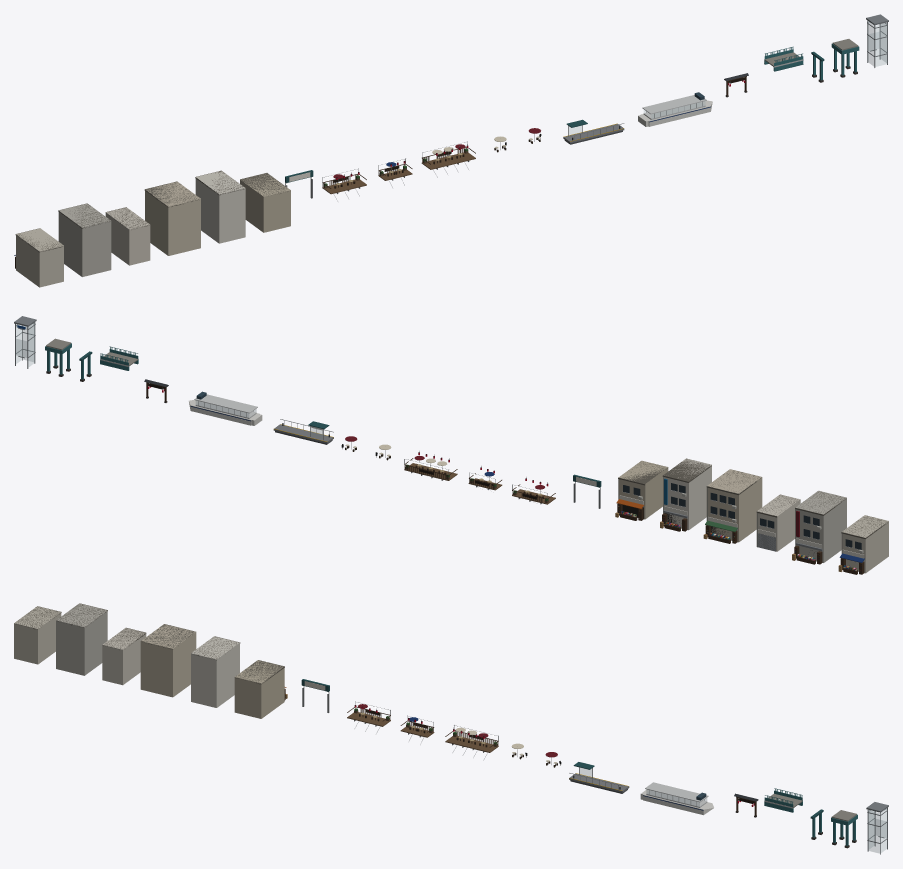
File: tsumugikit.glb
3 views of the same model, one above another, from view 1: azimuth 30°, elevation 25°; view 2: azimuth 150°, elevation 25°; view 3: azimuth 330°, elevation 25° (orthographic).
Parts seen in each view (by area): view 1: tsumugikit_tonya_d_body, tsumugikit_tonya_b_body, tsumugikit_tonya_e_body, tsumugikit_tonya_a_body, tsumugikit_tonya_f_body, tsumugikit_tonya_c_body, tsumugikit_boat_body, tsumugikit_lift_body, tsumugikit_yuka_l_body, tsumugikit_pontoon_body, tsumugikit_yuka_body, tsumugikit_span_body (+1 smaller); view 2: tsumugikit_tonya_d_body, tsumugikit_tonya_b_body, tsumugikit_tonya_e_body, tsumugikit_tonya_a_body, tsumugikit_tonya_f_body, tsumugikit_tonya_c_body, tsumugikit_boat_body, tsumugikit_lift_body, tsumugikit_pontoon_body, tsumugikit_yuka_l_body, tsumugikit_span_body, tsumugikit_cap_body (+1 smaller); view 3: tsumugikit_tonya_d_body, tsumugikit_tonya_b_body, tsumugikit_tonya_e_body, tsumugikit_tonya_f_body, tsumugikit_tonya_a_body, tsumugikit_tonya_c_body, tsumugikit_boat_body, tsumugikit_lift_body, tsumugikit_yuka_l_body, tsumugikit_pontoon_body, tsumugikit_yuka_body, tsumugikit_span_body (+1 smaller).
Part boxes in pixels (left/top/right/bottom): tsumugikit_tonya_d_body: left=144, top=181, right=200, bottom=255; tsumugikit_tonya_b_body: left=58, top=203, right=111, bottom=276; tsumugikit_tonya_e_body: left=195, top=170, right=245, bottom=243; tsumugikit_tonya_a_body: left=14, top=228, right=63, bottom=287; tsumugikit_tonya_f_body: left=240, top=173, right=290, bottom=232; tsumugikit_tonya_c_body: left=105, top=207, right=150, bottom=265; tsumugikit_boat_body: left=638, top=92, right=712, bottom=126; tsumugikit_lift_body: left=866, top=14, right=888, bottom=67; tsumugikit_yuka_l_body: left=421, top=141, right=475, bottom=177; tsumugikit_pontoon_body: left=563, top=119, right=624, bottom=144; tsumugikit_yuka_body: left=322, top=168, right=366, bottom=201; tsumugikit_span_body: left=764, top=46, right=803, bottom=71; tsumugikit_tonya_d_body: left=703, top=469, right=762, bottom=543; tsumugikit_tonya_b_body: left=792, top=490, right=846, bottom=564; tsumugikit_tonya_e_body: left=660, top=458, right=711, bottom=531; tsumugikit_tonya_a_body: left=838, top=515, right=888, bottom=574; tsumugikit_tonya_f_body: left=615, top=460, right=668, bottom=520; tsumugikit_tonya_c_body: left=756, top=494, right=800, bottom=551; tsumugikit_boat_body: left=189, top=391, right=262, bottom=425; tsumugikit_lift_body: left=14, top=316, right=36, bottom=368; tsumugikit_pontoon_body: left=273, top=419, right=333, bottom=444; tsumugikit_yuka_l_body: left=404, top=451, right=457, bottom=480; tsumugikit_span_body: left=100, top=346, right=138, bottom=370; tsumugikit_cap_body: left=45, top=338, right=71, bottom=376; tsumugikit_tonya_d_body: left=140, top=624, right=196, bottom=697; tsumugikit_tonya_b_body: left=56, top=603, right=107, bottom=675; tsumugikit_tonya_e_body: left=191, top=636, right=240, bottom=707; tsumugikit_tonya_f_body: left=234, top=660, right=287, bottom=718; tsumugikit_tonya_a_body: left=14, top=606, right=61, bottom=664; tsumugikit_tonya_c_body: left=102, top=627, right=146, bottom=685; tsumugikit_boat_body: left=640, top=782, right=713, bottom=815; tsumugikit_lift_body: left=866, top=802, right=888, bottom=854; tsumugikit_yuka_l_body: left=445, top=725, right=498, bottom=760; tsumugikit_pontoon_body: left=569, top=762, right=629, bottom=793; tsumugikit_yuka_body: left=347, top=701, right=390, bottom=733; tsumugikit_span_body: left=764, top=788, right=802, bottom=812.
Bounding box in the file's own units: 191 × 12.6 × 12.46.
